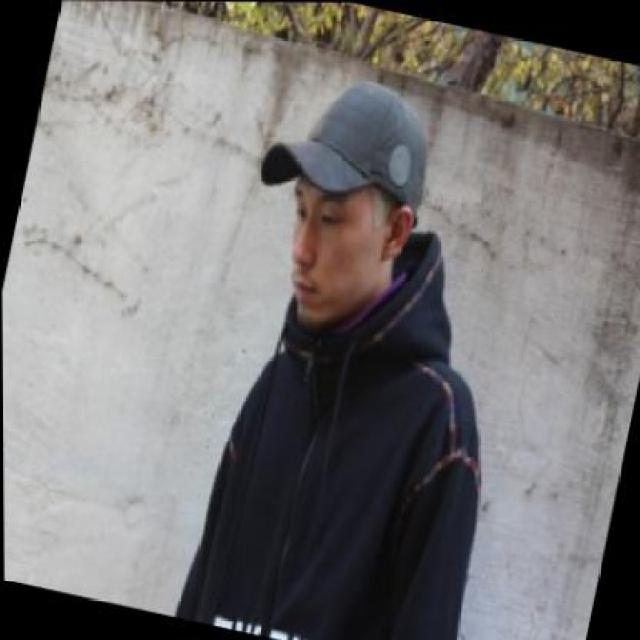hat: (249, 55, 448, 224)
